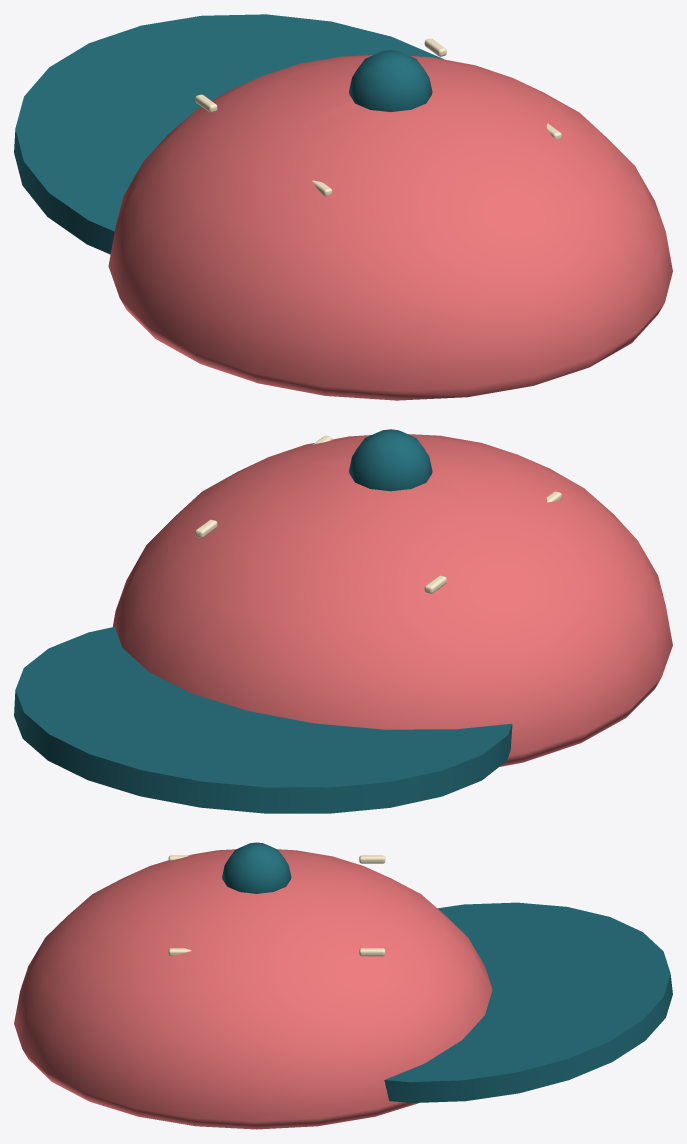
The model's file is acc_cap_mobile.glb.
The picture shows the model from 3 angles, top to bottom: view 1: azimuth 30°, elevation 25°; view 2: azimuth 150°, elevation 25°; view 3: azimuth 270°, elevation 25°; orthographic projection. The views are drawn at different scales.
Visible parts, largest first — view 1: AccCap, CraftDetails; view 2: AccCap, CraftDetails; view 3: AccCap, CraftDetails.
Part boxes in pixels (bbox=[...]): AccCap: bbox=[14, 14, 672, 400]; CraftDetails: bbox=[195, 38, 561, 196]; AccCap: bbox=[14, 429, 672, 813]; CraftDetails: bbox=[195, 435, 561, 593]; AccCap: bbox=[14, 842, 672, 1129]; CraftDetails: bbox=[168, 855, 385, 956].
Size of the model in its own units: 0.8 by 0.36 by 1.14.
